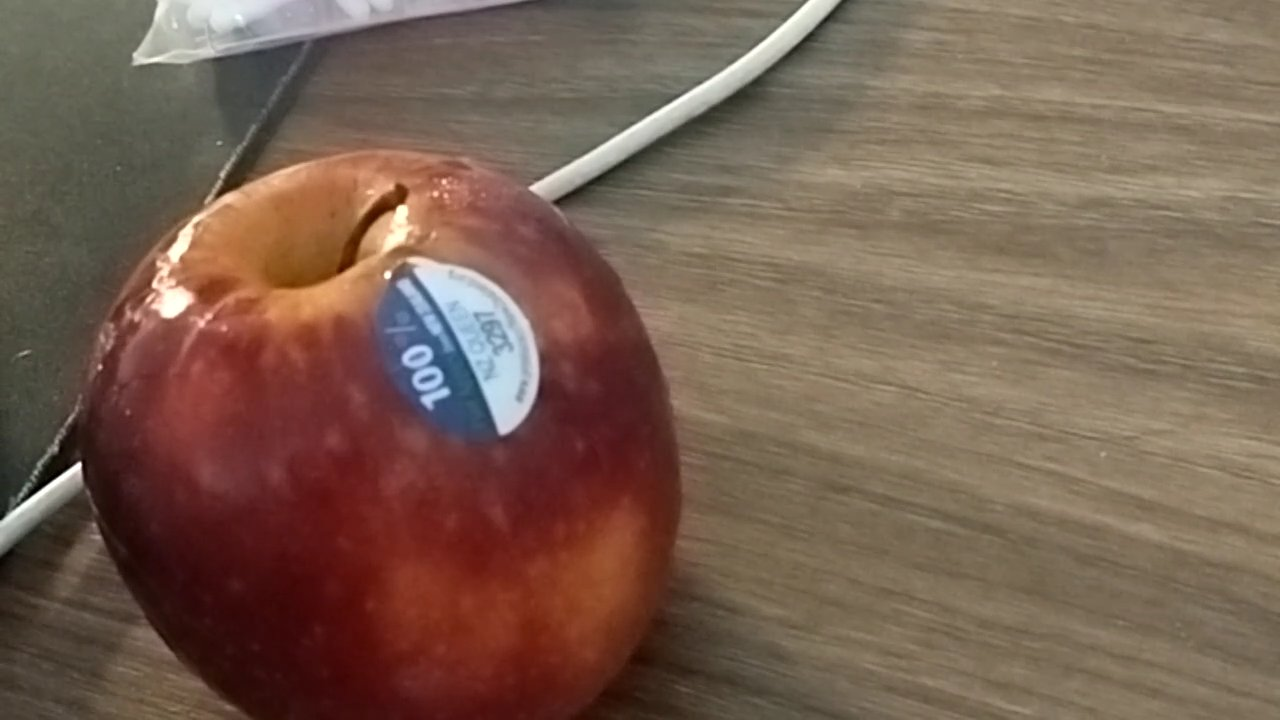apple_rotten: (69, 141, 689, 718)
orange_rotten: (413, 5, 1279, 618)
